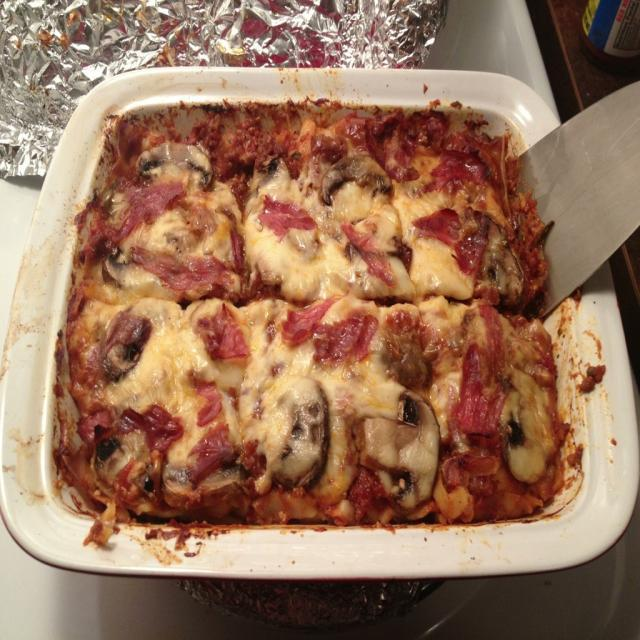Pizza: (25, 100, 586, 568)
